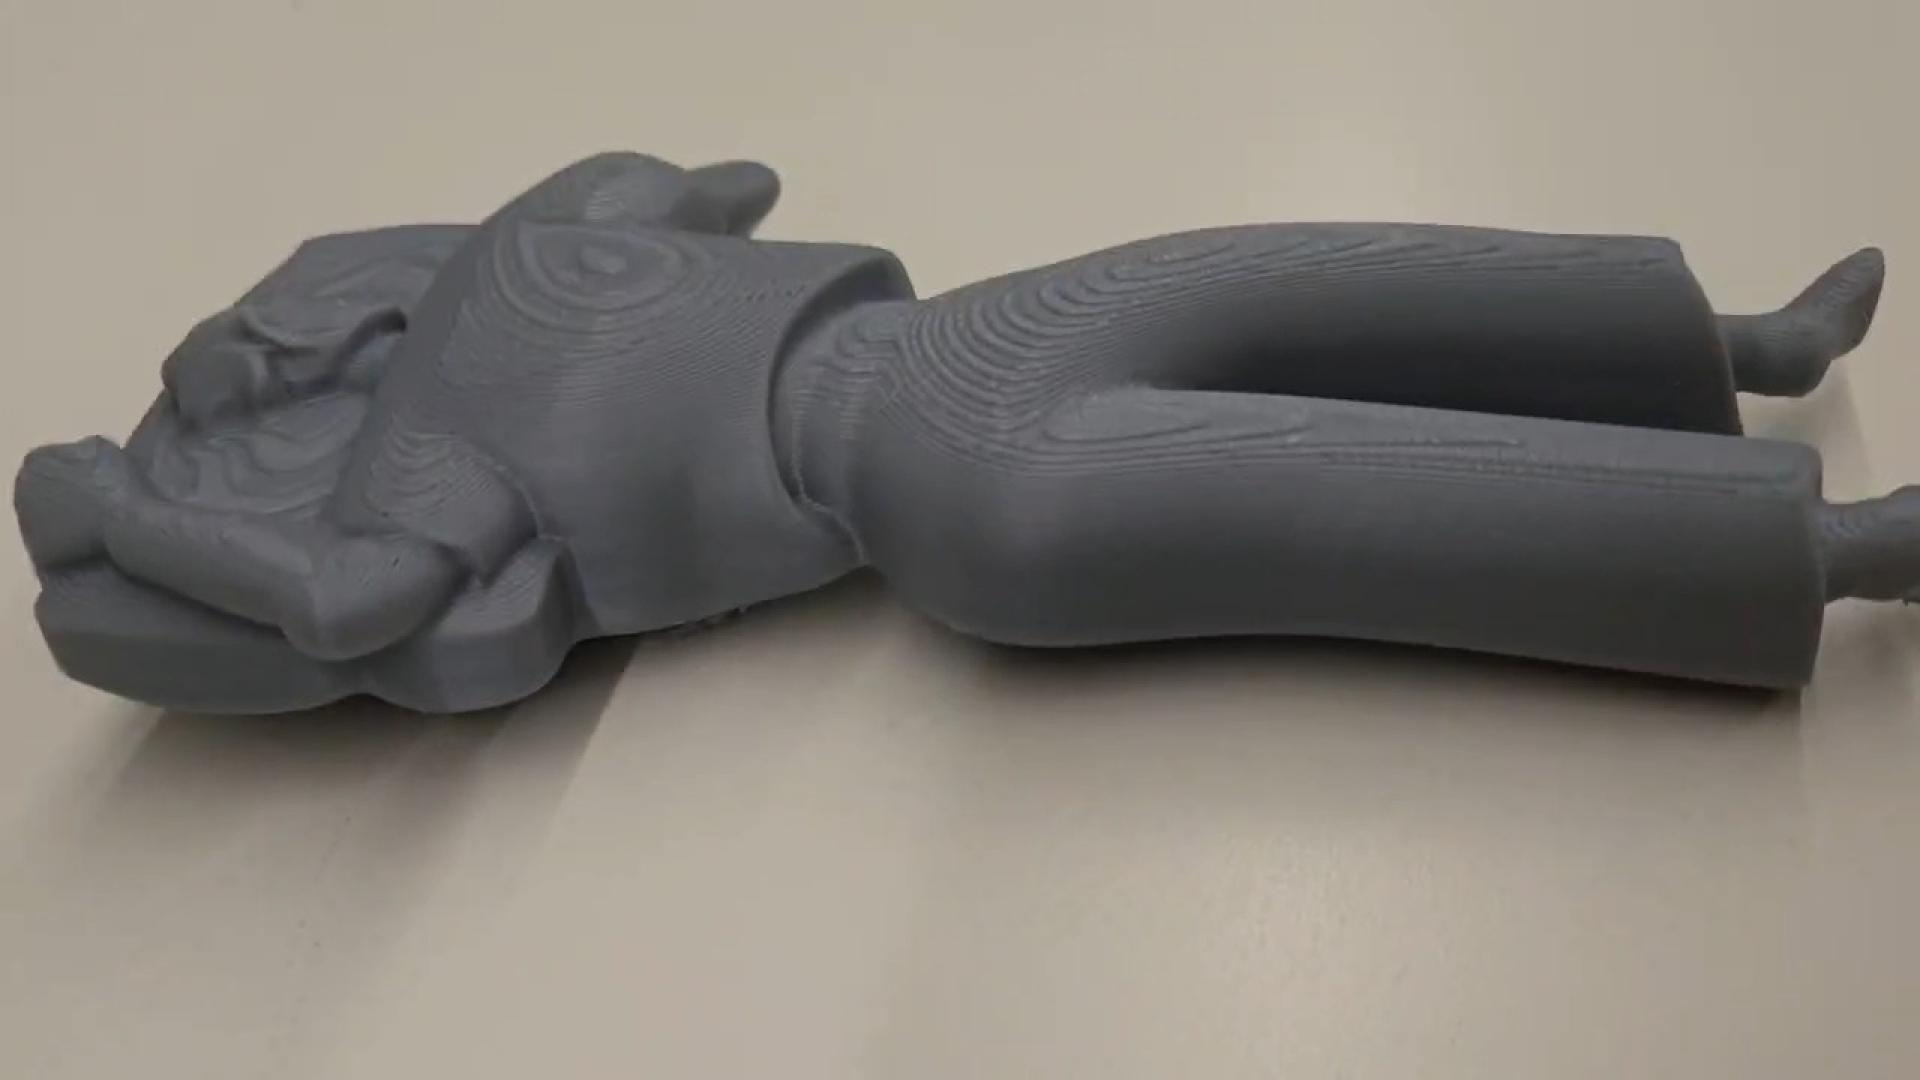Bad-style: (0, 148, 1920, 737)
